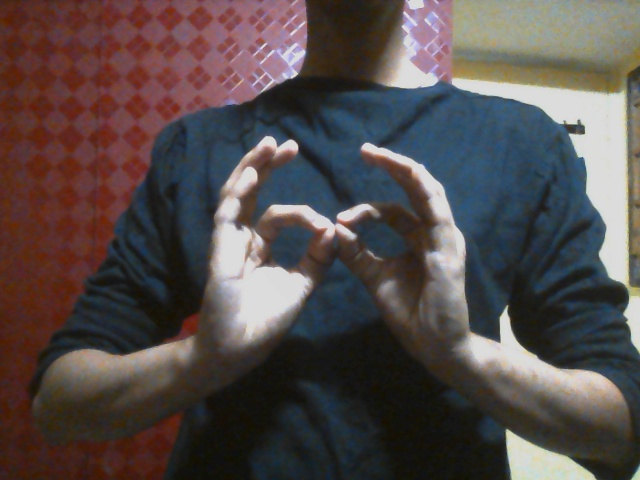B: (196, 134, 472, 389)
